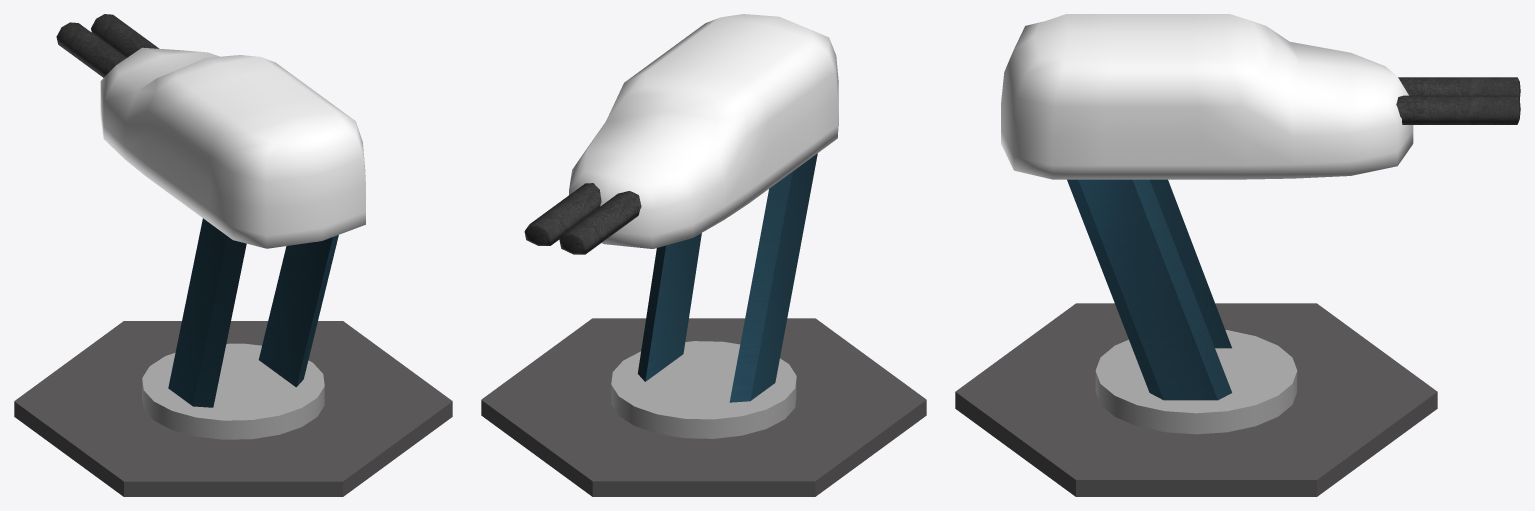
The model's file is basic02.fbx.
3 renders of one model, left to right at view 1: azimuth 30°, elevation 25°; view 2: azimuth 150°, elevation 25°; view 3: azimuth 270°, elevation 25°, orthographic. The views are drawn at different scales.
Parts seen in each view (by area): view 1: polySurface591, pCylinder38; view 2: polySurface591, pCylinder38; view 3: polySurface591, pCylinder38.
Part boxes in pixels (<box>): polySurface591: <box>56,14,365,439</box>; pCylinder38: <box>14,321,452,496</box>; polySurface591: <box>524,14,838,438</box>; pCylinder38: <box>481,318,926,496</box>; polySurface591: <box>1001,14,1520,434</box>; pCylinder38: <box>955,303,1437,496</box>.
Size of the model in its own units: 11.83 by 11.76 by 16.01.
